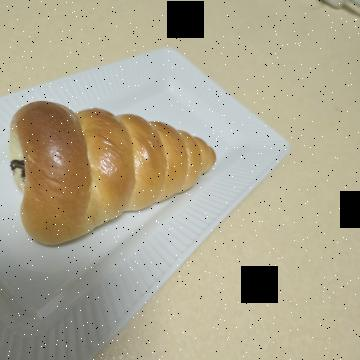cream horn: (78, 118, 258, 360)
